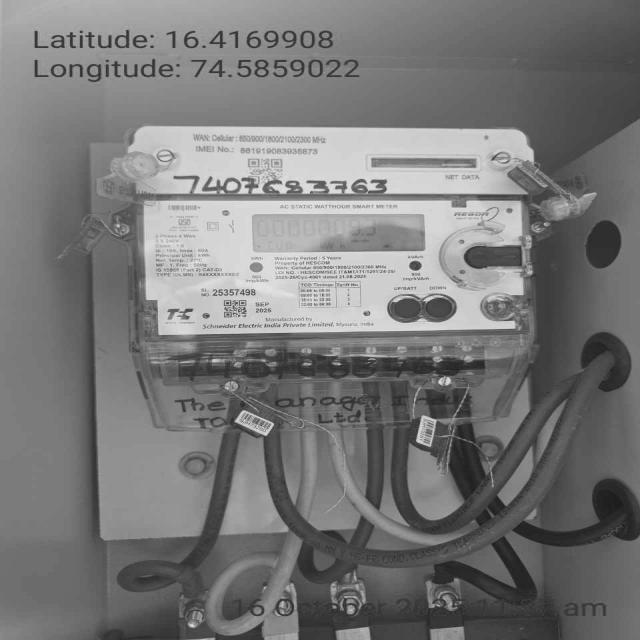meter: (134, 125, 534, 330)
